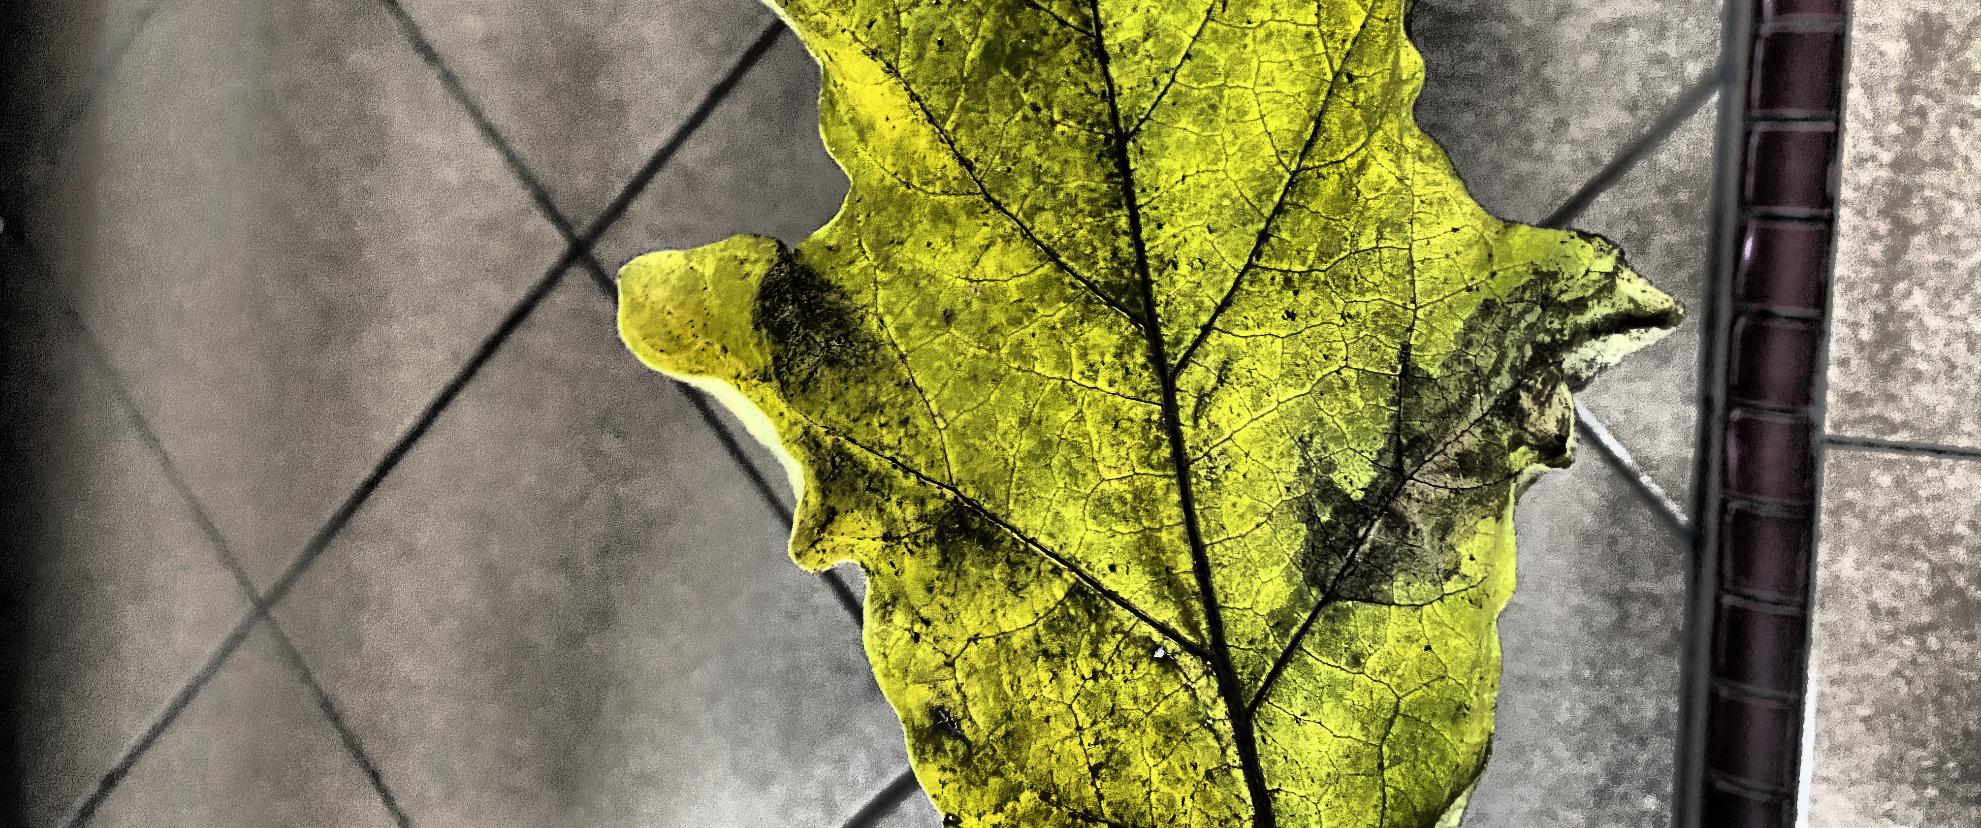Critical Stress: (0, 174, 1468, 828)
